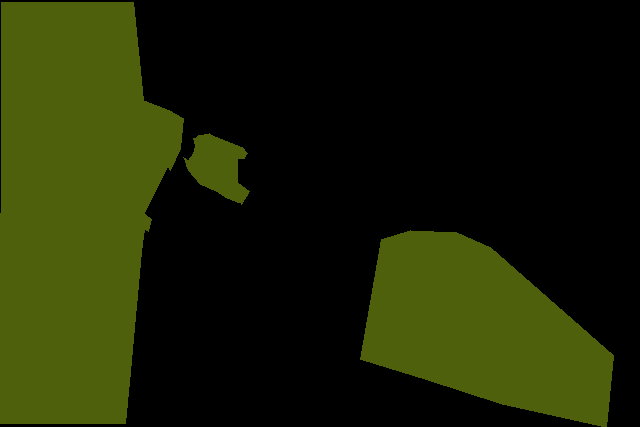Train: (0, 2, 183, 424), (360, 230, 613, 427), (183, 133, 249, 204)
